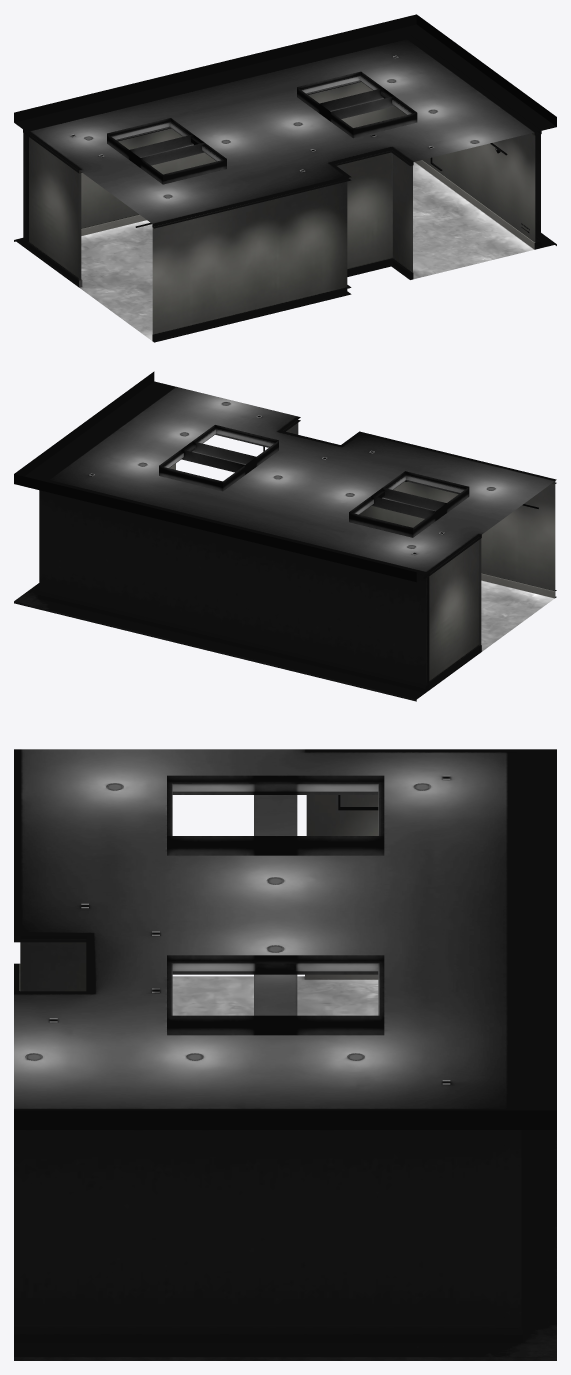
Rendered from Room_6.glb.
3 views of the same model, one above another, from view 1: azimuth 30°, elevation 25°; view 2: azimuth 150°, elevation 25°; view 3: azimuth 270°, elevation 25° (orthographic). The views are drawn at different scales.
Visible parts, largest first — view 1: room_6.001; view 2: room_6.001; view 3: room_6.001.
Boxes of the visible parts, bbox=[...] form: room_6.001: bbox=[14, 14, 556, 342]; room_6.001: bbox=[14, 371, 556, 701]; room_6.001: bbox=[14, 749, 556, 1360].
Bounding box in the file's own units: 10.81 × 3.32 × 6.52.
Materials: 3 (3 with a texture image).
